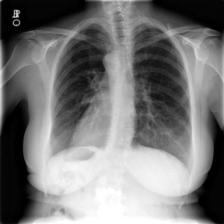normal: (41, 17, 197, 175)
